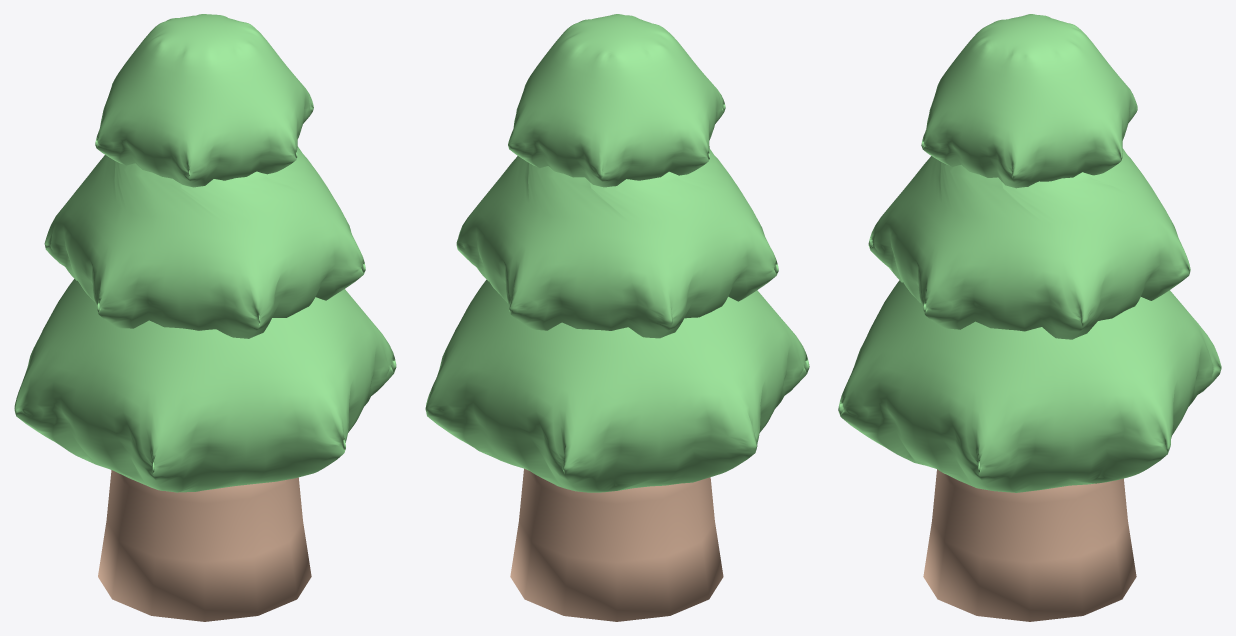
The model's file is Pine.fbx.
The picture shows the model from 3 angles, left to right: view 1: azimuth 30°, elevation 25°; view 2: azimuth 150°, elevation 25°; view 3: azimuth 270°, elevation 25°; orthographic projection.
Visible parts, largest first — view 1: Pine; view 2: Pine; view 3: Pine.
Boxes of the visible parts, <box> form: Pine: <box>14,14,396,621</box>; Pine: <box>425,14,809,621</box>; Pine: <box>838,14,1221,621</box>.
Bounding box in the file's own units: 412 × 655 × 414.
